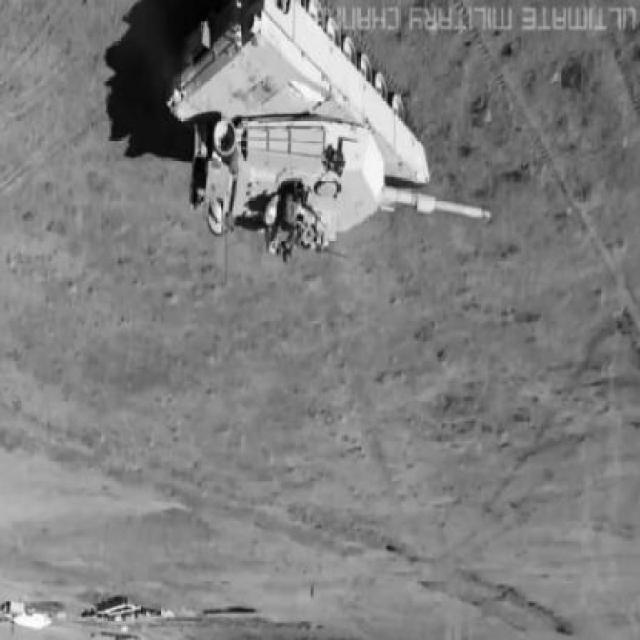Vehicle: (170, 3, 434, 254)
